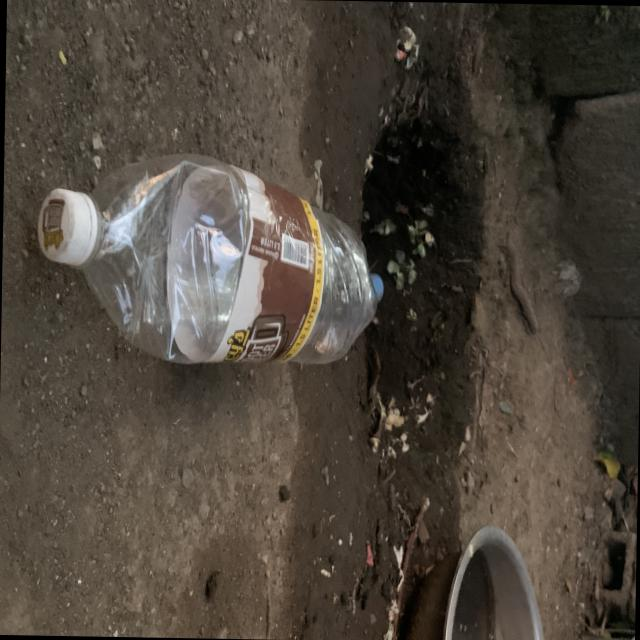Bottle: (36, 154, 376, 363)
